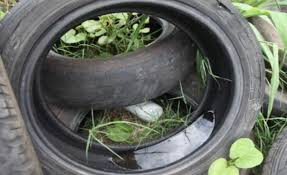tire: (2, 1, 265, 174), (41, 14, 193, 106)
